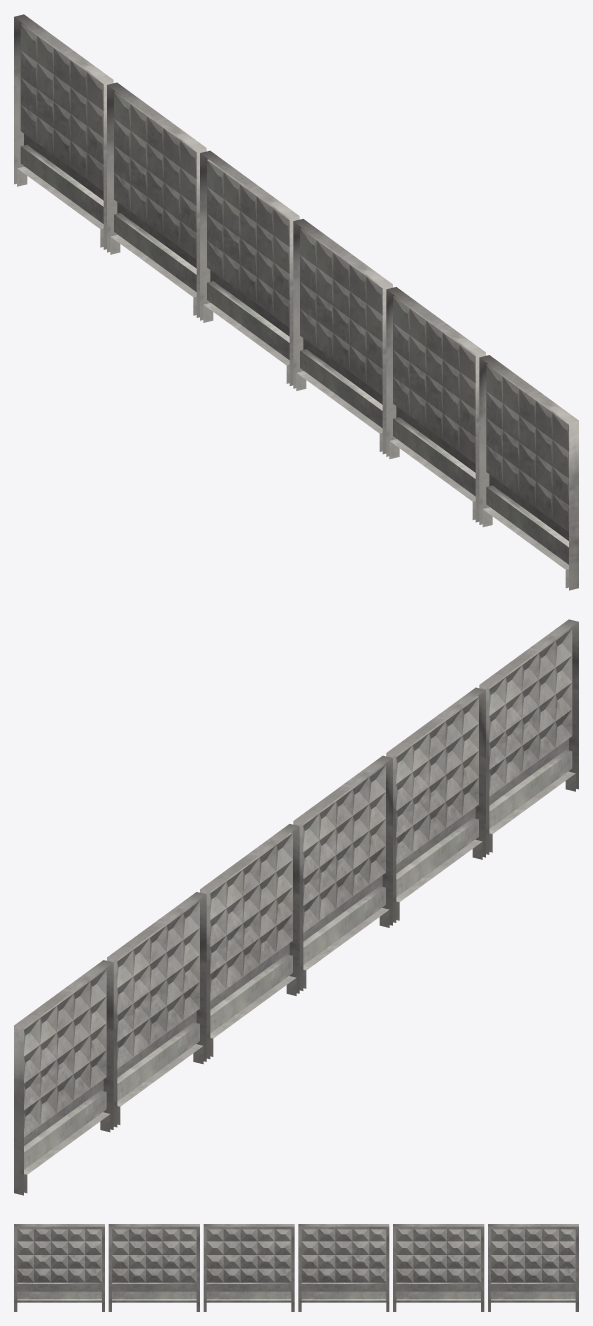
File: fence_V1.glb
The picture shows the model from 3 angles, top to bottom: view 1: azimuth 30°, elevation 25°; view 2: azimuth 150°, elevation 25°; view 3: azimuth 270°, elevation 25°; orthographic projection. The views are drawn at different scales.
Visible parts, largest first — view 1: Plane.001; view 2: Plane.001; view 3: Plane.001.
Boxes of the visible parts, bbox=[...] form: Plane.001: bbox=[14, 14, 578, 590]; Plane.001: bbox=[14, 619, 578, 1195]; Plane.001: bbox=[14, 1224, 578, 1311].
Bounding box in the file's own units: 0.186 × 2.95 × 17.7.
1 material, 1 textured.
